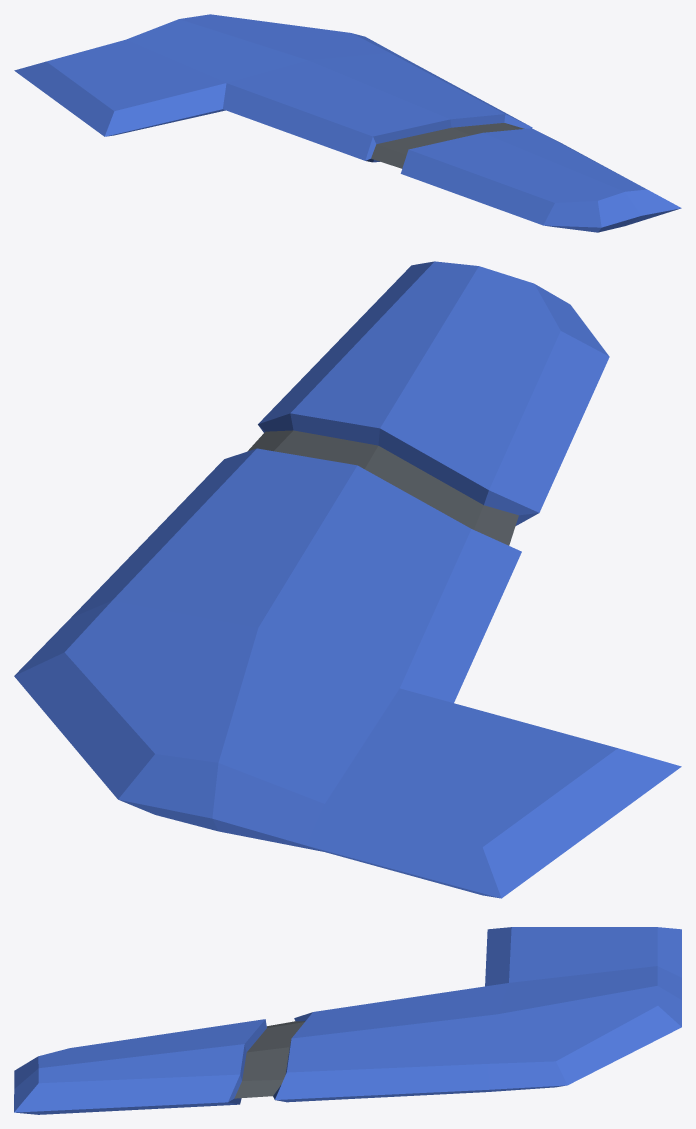
File: Fighter_01_Wings_Left_Blue.fbx
The picture shows the model from 3 angles, top to bottom: view 1: azimuth 30°, elevation 25°; view 2: azimuth 150°, elevation 25°; view 3: azimuth 270°, elevation 25°; orthographic projection. The views are drawn at different scales.
Visible parts, largest first — view 1: Fighter_01_Wings_Left_Blue; view 2: Fighter_01_Wings_Left_Blue; view 3: Fighter_01_Wings_Left_Blue.
Part boxes in pixels (<box>): Fighter_01_Wings_Left_Blue: <box>14,14,681,232</box>; Fighter_01_Wings_Left_Blue: <box>14,261,681,898</box>; Fighter_01_Wings_Left_Blue: <box>14,927,681,1114</box>.
Size of the model in its own units: 319 by 30.13 by 482.
Materials: 1 (1 with a texture image).
